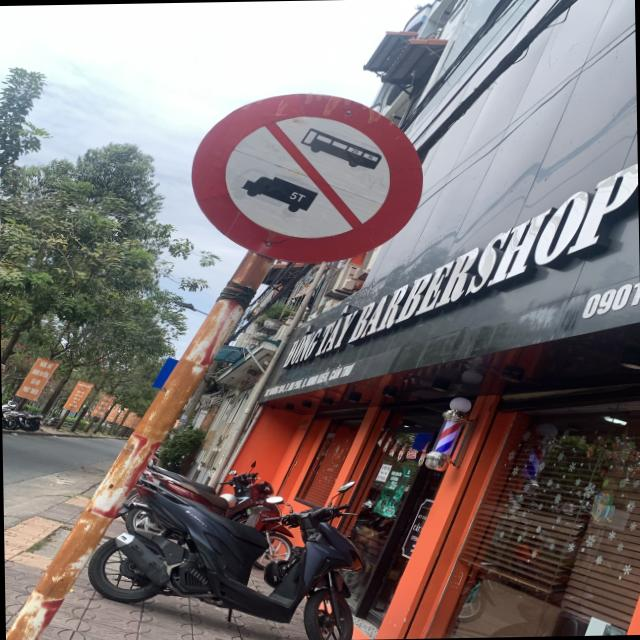Cam_XeTai_XeKhach: (190, 88, 427, 264)
